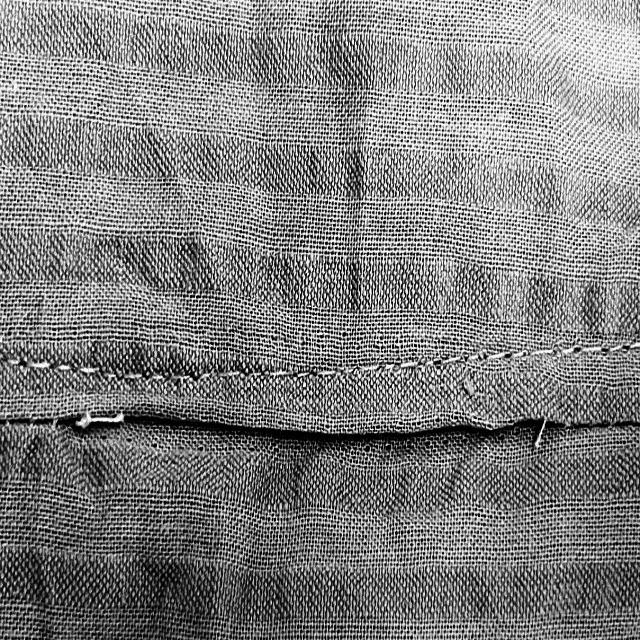Sewing_error: (58, 402, 154, 436), (504, 407, 560, 460)
